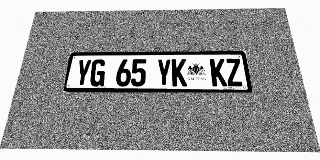5: (131, 59, 146, 86)
6: (115, 59, 132, 86)
G: (89, 59, 106, 86)
K: (210, 58, 227, 86), (172, 59, 187, 86)
Y: (74, 59, 92, 86), (156, 59, 171, 86)
Z: (225, 58, 243, 86)
